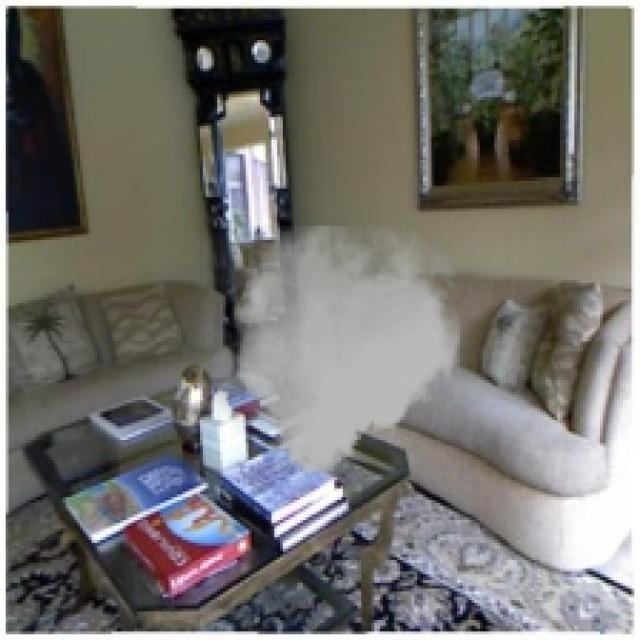smoke: (203, 226, 466, 474)
